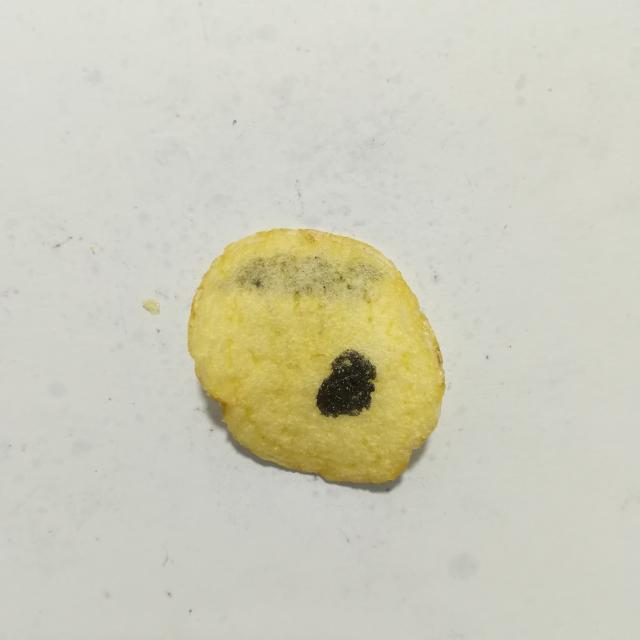chip: (188, 229, 445, 483)
damaged: (316, 350, 376, 417)
semi-damaged: (228, 249, 389, 297)
